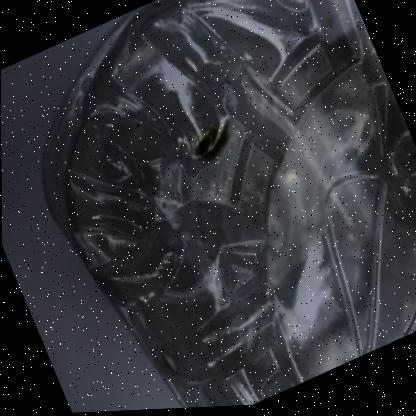Plastic: (40, 0, 416, 410)
